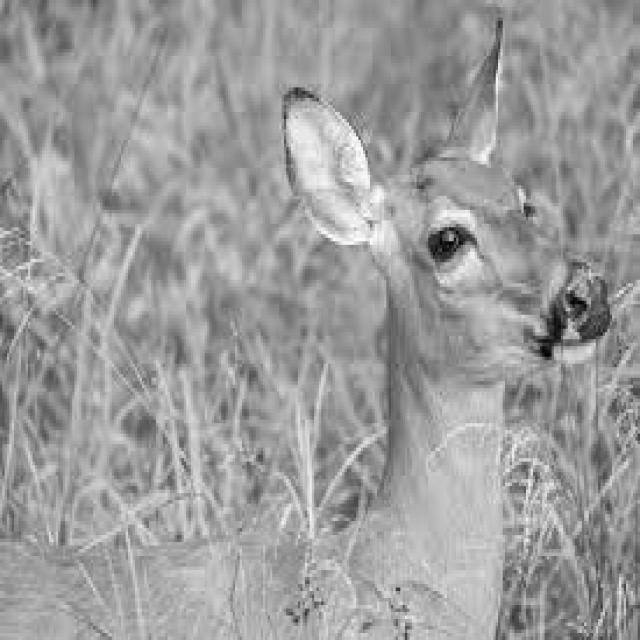Deer: (135, 39, 623, 631)
